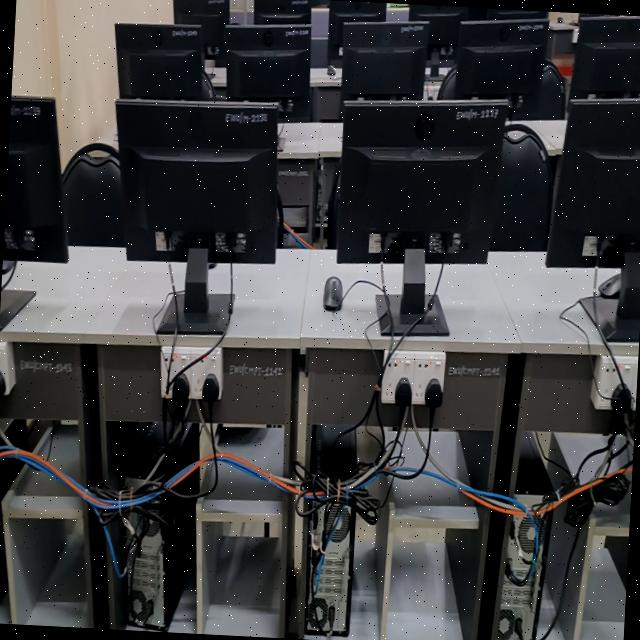Chair: (489, 124, 554, 250), (62, 143, 124, 246), (515, 59, 567, 119), (437, 64, 457, 99)
Cpu: (496, 495, 549, 640), (306, 506, 354, 636), (123, 500, 168, 629)
Monitor: (334, 101, 508, 263), (116, 99, 279, 264), (546, 99, 640, 267), (3, 96, 68, 263), (340, 22, 429, 119), (224, 24, 311, 121), (456, 19, 549, 101), (115, 25, 212, 100), (570, 18, 640, 99), (328, 0, 386, 65), (174, 0, 230, 53), (409, 4, 468, 49), (254, 0, 311, 24), (487, 8, 548, 20), (497, 9, 508, 13)
Mouse: (323, 276, 343, 311), (598, 274, 621, 298), (327, 64, 335, 76)
